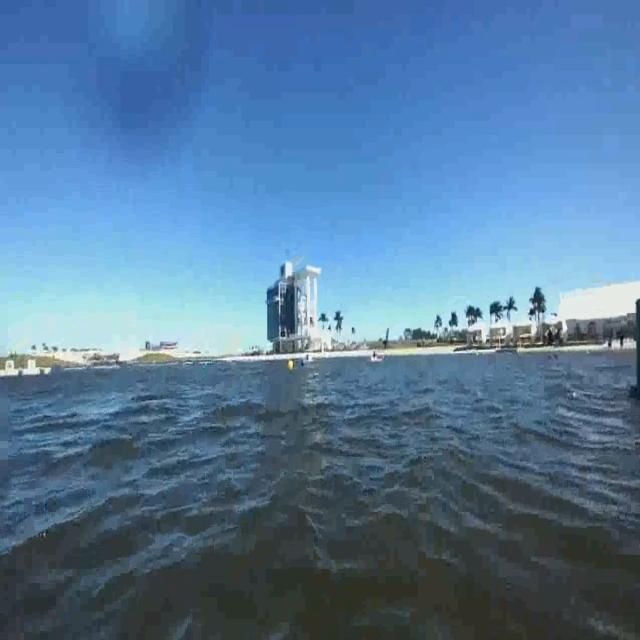green-column-buoy: (629, 294, 640, 406)
yellow-buoy: (287, 357, 295, 371)
